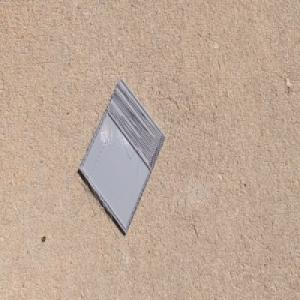PlasticPart: (78, 75, 168, 236)
